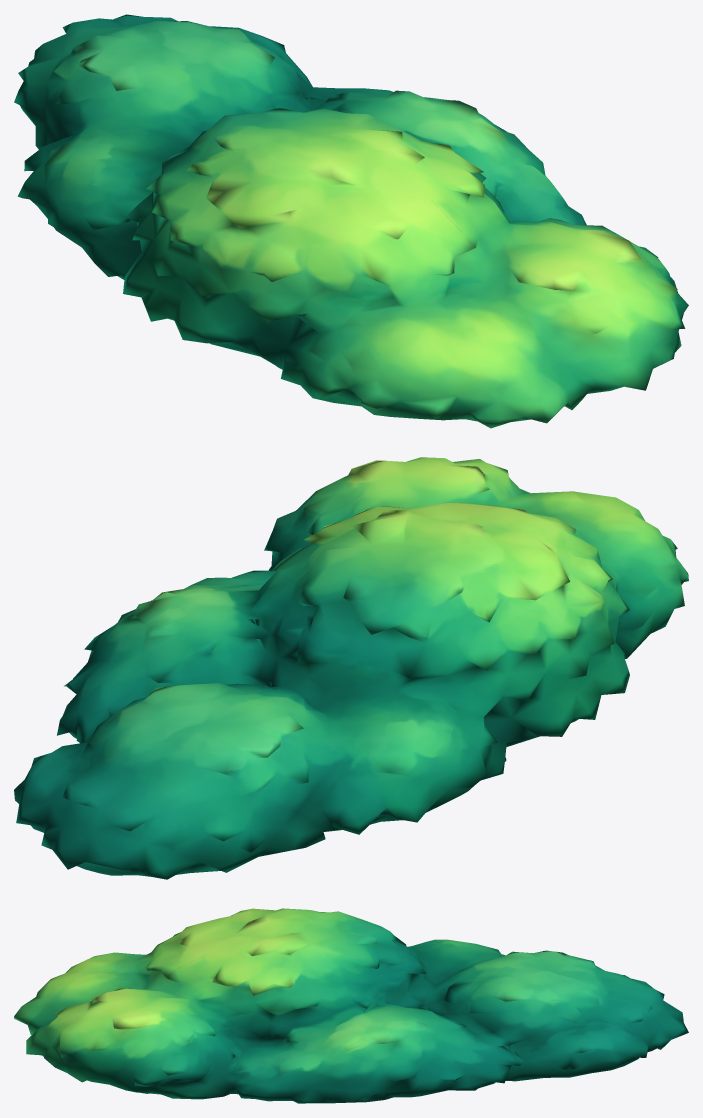
3 views of the same model, one above another, from view 1: azimuth 30°, elevation 25°; view 2: azimuth 150°, elevation 25°; view 3: azimuth 270°, elevation 25° (orthographic). The views are drawn at different scales.
Parts seen in each view (by area): view 1: tripo_node_0a6e4804-6c5b-45cc-92c0-9ce7b145f389; view 2: tripo_node_0a6e4804-6c5b-45cc-92c0-9ce7b145f389; view 3: tripo_node_0a6e4804-6c5b-45cc-92c0-9ce7b145f389.
Boxes of the visible parts, box(x1,y1,x2,y2) form: tripo_node_0a6e4804-6c5b-45cc-92c0-9ce7b145f389: box(14, 14, 688, 428); tripo_node_0a6e4804-6c5b-45cc-92c0-9ce7b145f389: box(14, 457, 688, 879); tripo_node_0a6e4804-6c5b-45cc-92c0-9ce7b145f389: box(14, 908, 688, 1103).
Size of the model in its own units: 0.9 by 0.35 by 1.83.
Materials: 1 (1 with a texture image).
